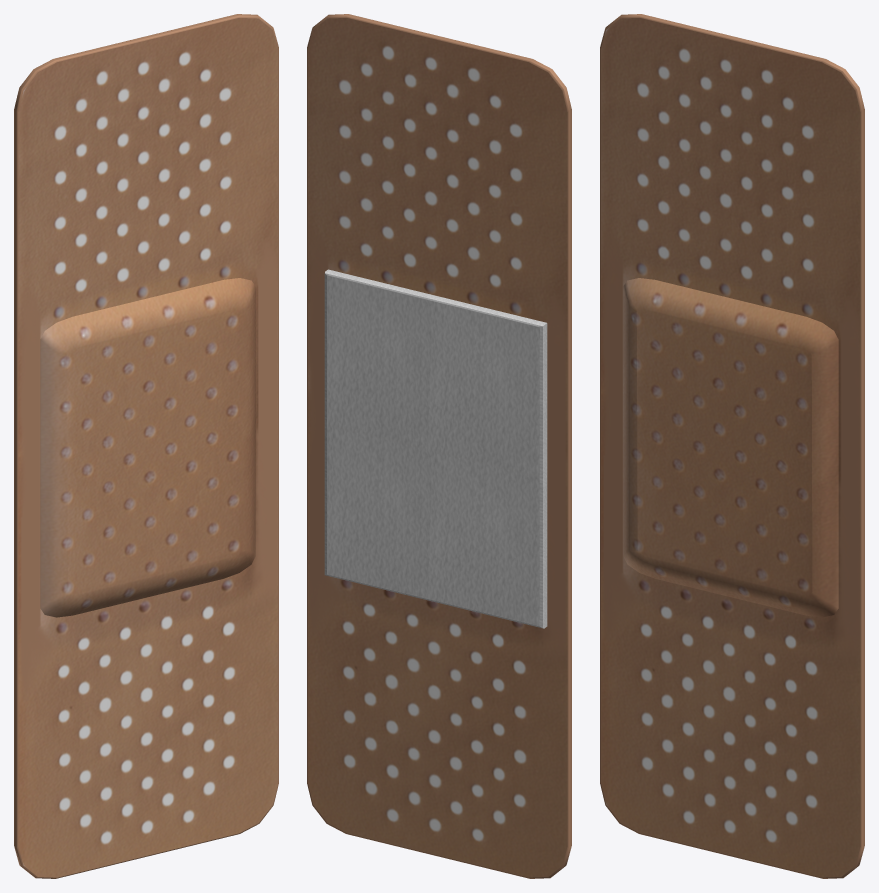
The model's file is bandaid.glb.
The picture shows the model from 3 angles, left to right: view 1: azimuth 30°, elevation 25°; view 2: azimuth 150°, elevation 25°; view 3: azimuth 330°, elevation 25°; orthographic projection.
Visible parts, largest first — view 1: bandaid; view 2: bandaid; view 3: bandaid.
Boxes of the visible parts, left/top/right/bottom form: bandaid: left=14, top=14, right=278, bottom=878; bandaid: left=307, top=14, right=571, bottom=878; bandaid: left=600, top=14, right=864, bottom=878.
Size of the model in its own units: 1.91 by 5.69 by 0.1788.
Materials: 1 (1 with a texture image).
